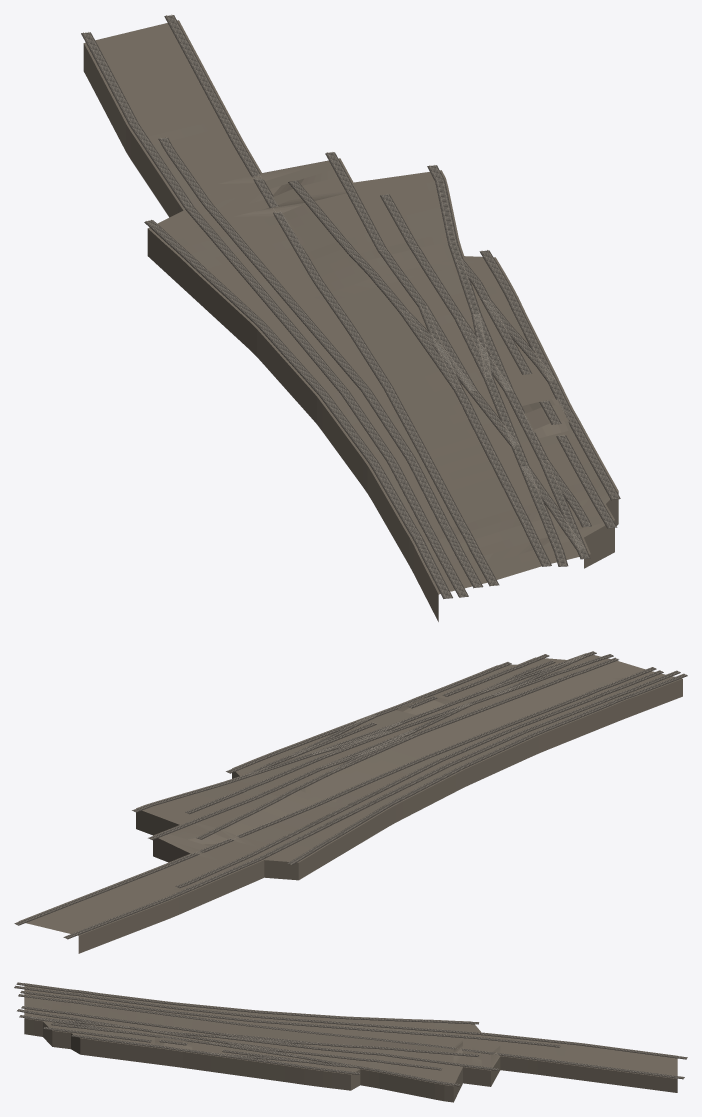
File: rail-model.glb
3 views of the same model, one above another, from view 1: azimuth 30°, elevation 25°; view 2: azimuth 150°, elevation 25°; view 3: azimuth 270°, elevation 25° (orthographic). The views are drawn at different scales.
Parts seen in each view (by area): view 1: Tokyo Station surveyed rail corridor; view 2: Tokyo Station surveyed rail corridor; view 3: Tokyo Station surveyed rail corridor.
Boxes of the visible parts, bbox=[...] form: Tokyo Station surveyed rail corridor: bbox=[81, 14, 620, 621]; Tokyo Station surveyed rail corridor: bbox=[14, 651, 687, 953]; Tokyo Station surveyed rail corridor: bbox=[14, 982, 687, 1102].
Size of the model in its own units: 108 by 8.86 by 289.
